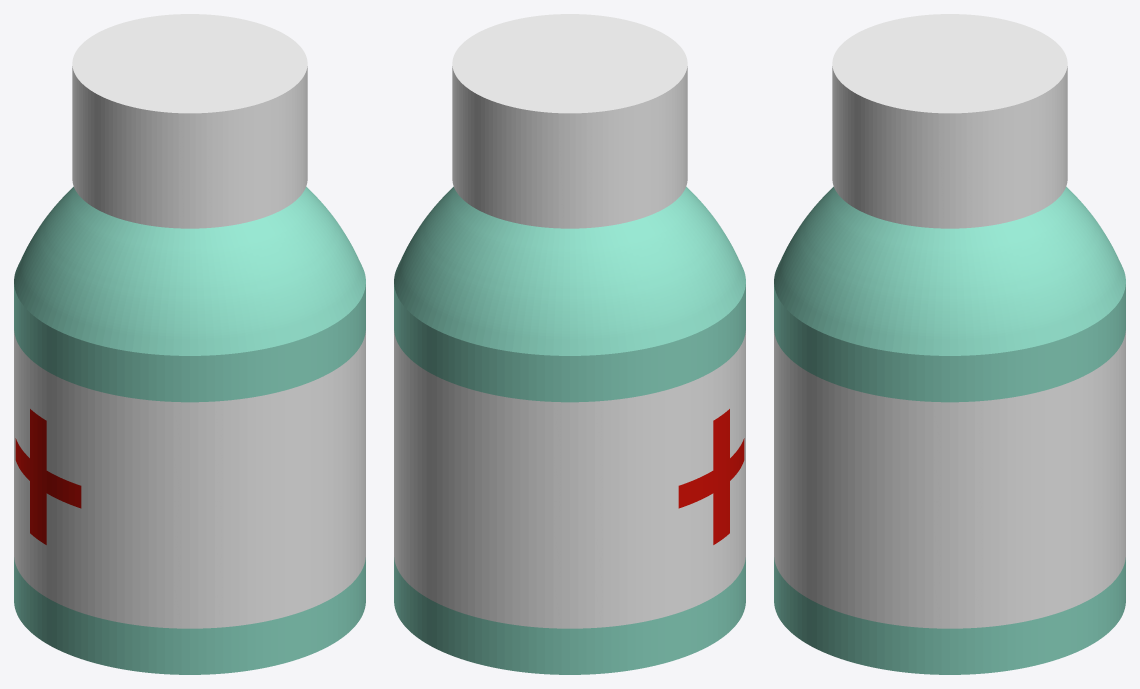
The model's file is MediBottle.fbx.
The picture shows the model from 3 angles, left to right: view 1: azimuth 30°, elevation 25°; view 2: azimuth 150°, elevation 25°; view 3: azimuth 270°, elevation 25°; orthographic projection.
Visible parts, largest first — view 1: Cylinder; view 2: Cylinder; view 3: Cylinder.
Part boxes in pixels (x1,y1,x2,y2): Cylinder: (14, 14, 365, 674); Cylinder: (394, 14, 745, 674); Cylinder: (774, 14, 1125, 674).
Bounding box in the file's own units: 200 × 337 × 200.
